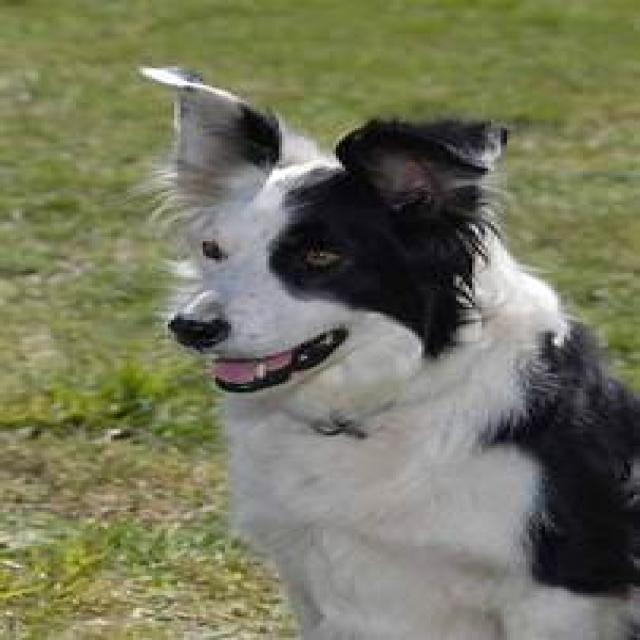KOPEK: (126, 59, 640, 640)
